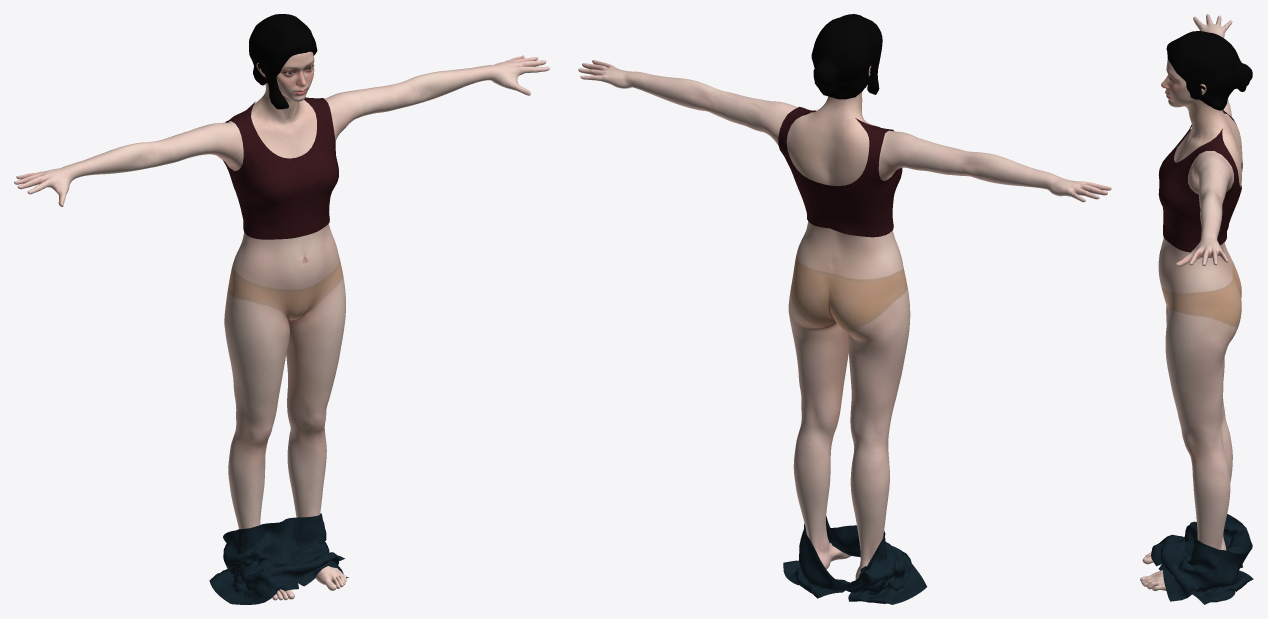
The model's file is random.obj.
3 renders of one model, left to right at view 1: azimuth 30°, elevation 25°; view 2: azimuth 150°, elevation 25°; view 3: azimuth 270°, elevation 25°, orthographic. The views are drawn at different scales.
Bounding box in the file's own units: 1746 × 1775 × 337.
